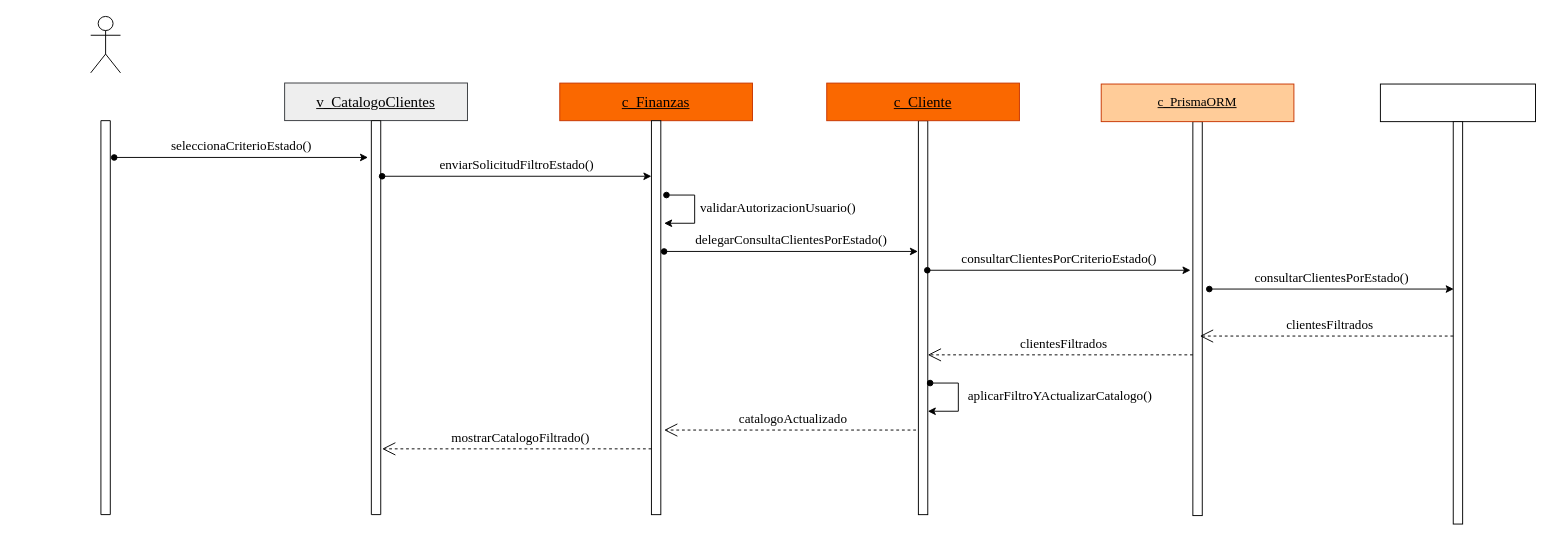
This 1553x541 diagram has some shape labels left out. Each missing label, with the centre of its shape:
cliente: [1457,102]
Usuario Autorizado Gerencia, Secretaria o Contador: [105,44]
